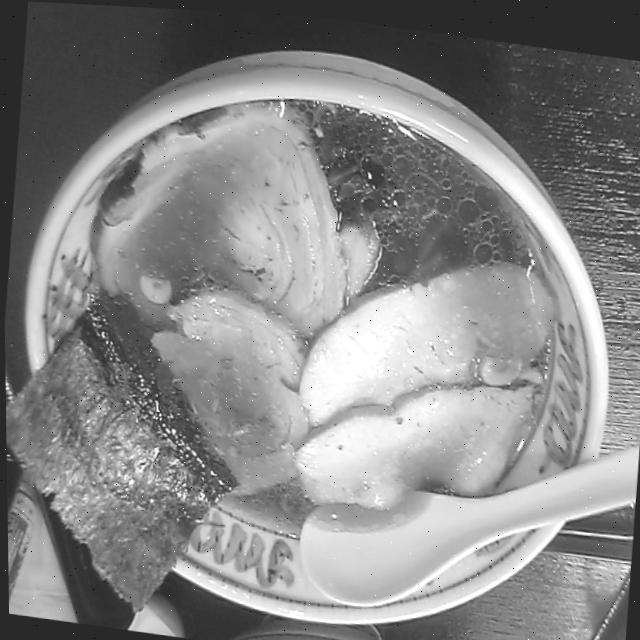面条主食: (56, 59, 580, 572)
